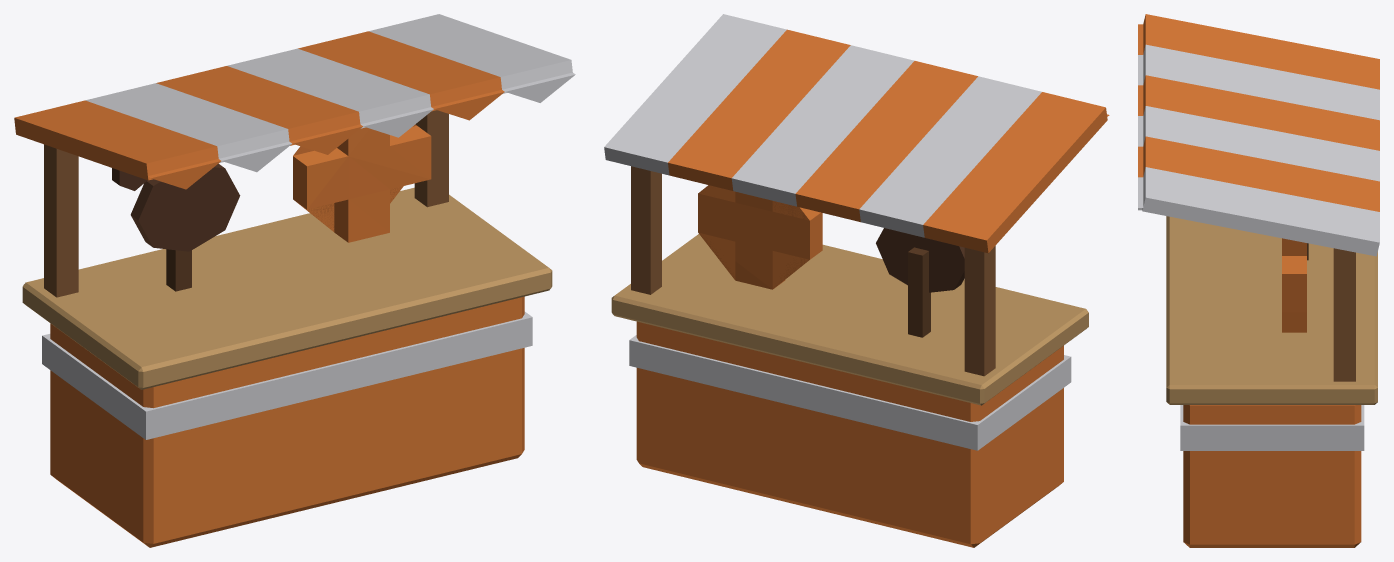
Rendered from Prop_UpgradeStand_Shooters.fbx.
3 views of the same model, side by side, from view 1: azimuth 30°, elevation 25°; view 2: azimuth 150°, elevation 25°; view 3: azimuth 270°, elevation 25° (orthographic). The views are drawn at different scales.
Parts seen in each view (by area): view 1: Body; view 2: Body; view 3: Body.
Part boxes in pixels (left/top/right/bottom): Body: left=14, top=14, right=575, bottom=547; Body: left=604, top=14, right=1109, bottom=547; Body: left=1138, top=14, right=1379, bottom=547.
Size of the model in its own units: 7.8 by 7.18 by 4.34.
